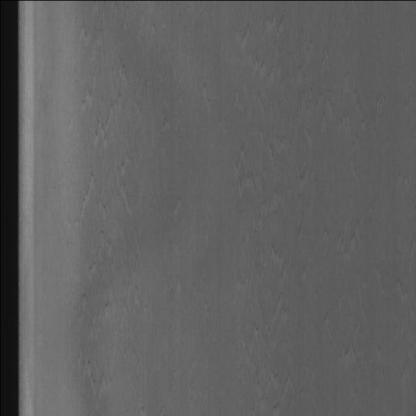silk_spot: (71, 50, 138, 396)
